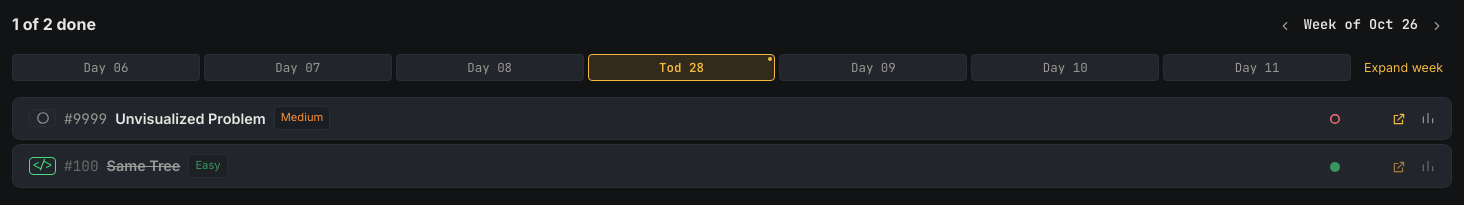
TodayBoardComponent › clicking a different day button switches the selected day and its item list
Click the button with class "today-board__day-btn" showing "Day 06" at (106, 67), box [12,54,200,81]
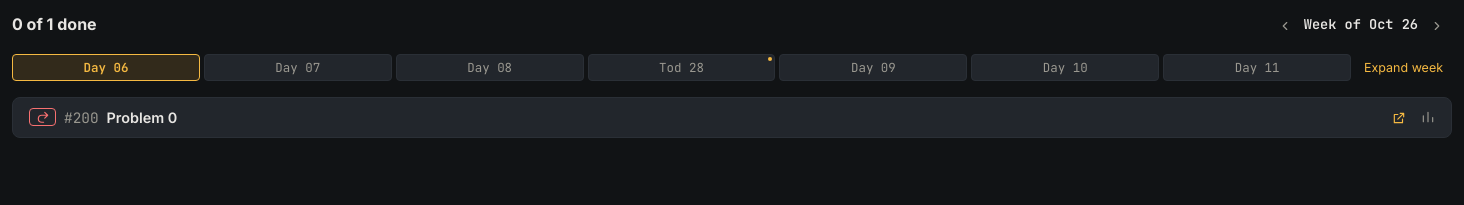
Check: the text "Problem 0" is shown, box [106,106,177,129]
Check: the text with class "today-board__count" reads "0 of 1 done", box [12,14,97,34]
